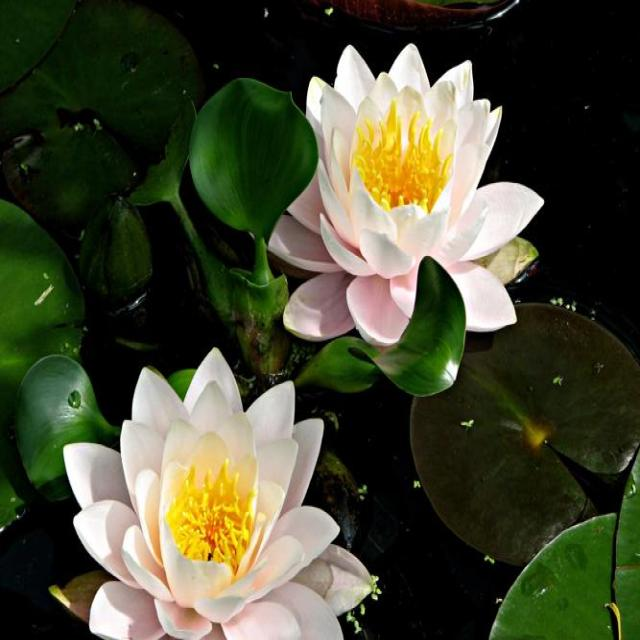water-lily: (46, 17, 640, 640)
